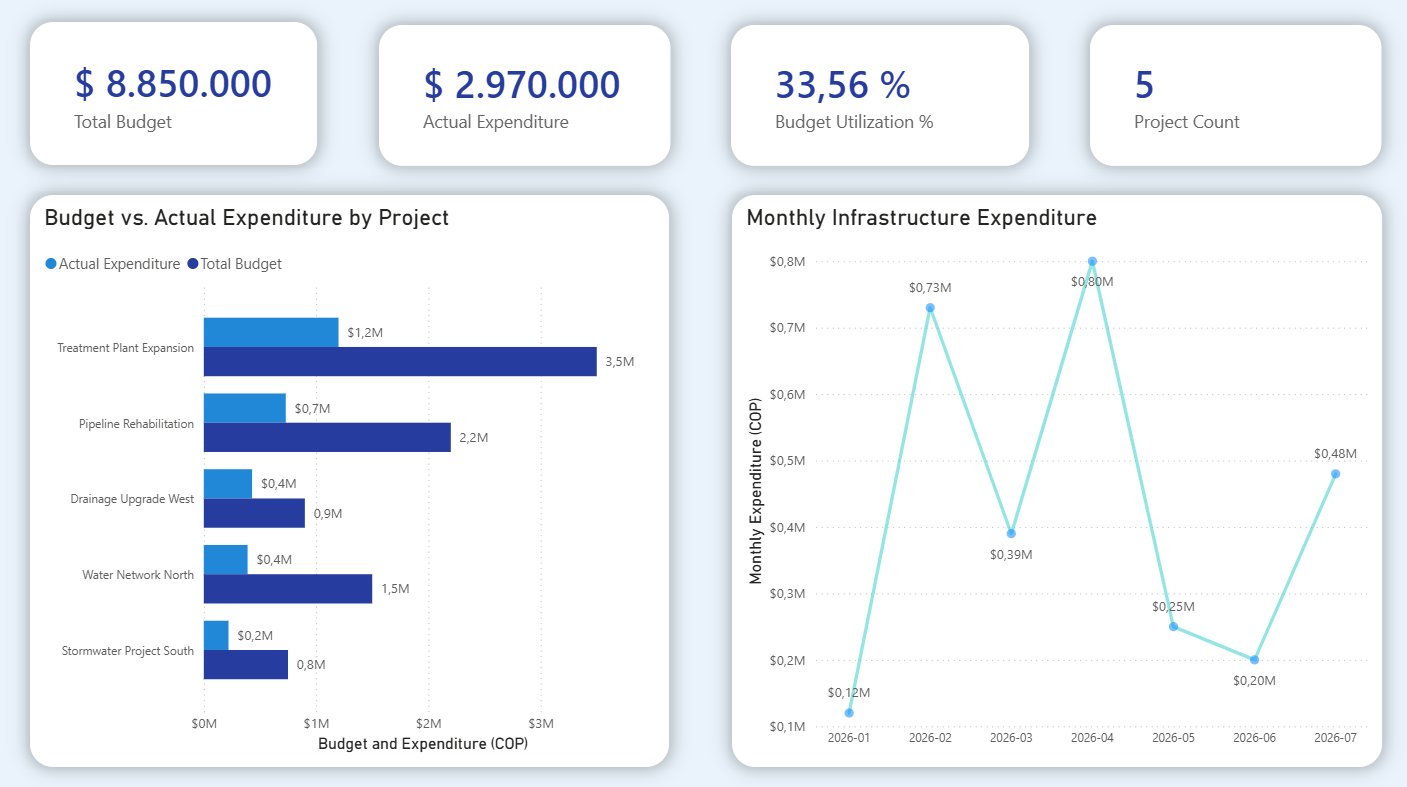

The page's visual inventory and layout, read from the dashboard file:
{"tool":"powerbi","page":{"name":"Executive Overview","canvas":[1280,720],"ordinal":0},"visuals":[{"type":"cardVisual","fields":{"Data":["fact_project_performance.Total Budget"]},"box":[27.5,20.3,261.2,130],"z":0},{"type":"clusteredBarChart","title":"Budget vs. Actual Expenditure by Project","fields":{"Category":["dim_project.project_name"],"Y":["fact_project_performance.Actual Expenditure","fact_project_performance.Total Budget"]},"box":[27.5,177.5,581.2,520],"z":1000},{"type":"cardVisual","fields":{"Data":["fact_project_performance.Actual Expenditure"]},"box":[344.2,22.5,265,127.5],"z":2000},{"type":"cardVisual","fields":{"Data":["fact_project_performance.Budget Utilization %"]},"box":[664.6,22.5,271.2,127.5],"z":3000},{"type":"cardVisual","fields":{"Data":["fact_project_performance.Project Count"]},"box":[991.2,22.5,265,127.5],"z":4000},{"type":"lineChart","title":"Monthly Infrastructure Expenditure","fields":{"Y":["Sum(fact_expenses.amount)"],"Category":["dim_date.year_month"]},"box":[665,177.5,591.2,520],"z":5000}]}

Visuals, with their boxes in screenshot pixels (x1, y1, x2, y2), scaled from the page's 1280x720 canvas onto the 1407x787 screenshot:
cardVisual - fact_project_performance.Total Budget: rect(30, 22, 317, 164)
"Budget vs. Actual Expenditure by Project" clusteredBarChart: rect(30, 194, 669, 762)
cardVisual - fact_project_performance.Actual Expenditure: rect(378, 25, 670, 164)
cardVisual - fact_project_performance.Budget Utilization %: rect(731, 25, 1029, 164)
cardVisual - fact_project_performance.Project Count: rect(1090, 25, 1381, 164)
"Monthly Infrastructure Expenditure" lineChart: rect(731, 194, 1381, 762)
